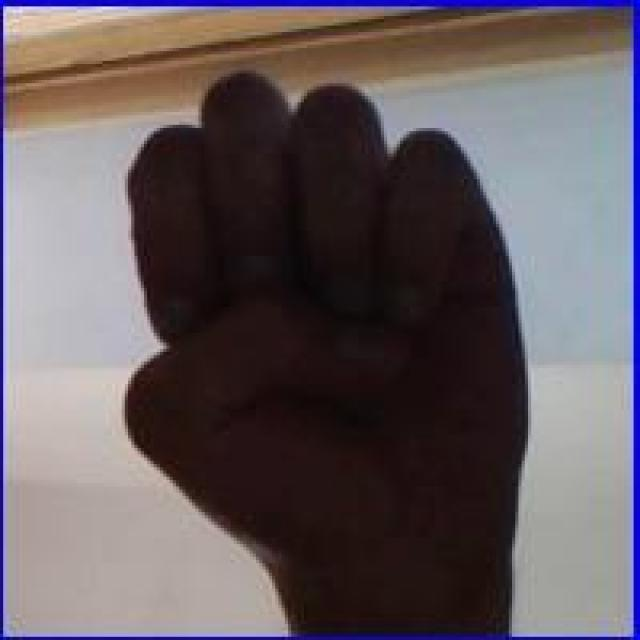E: (112, 72, 534, 610)
